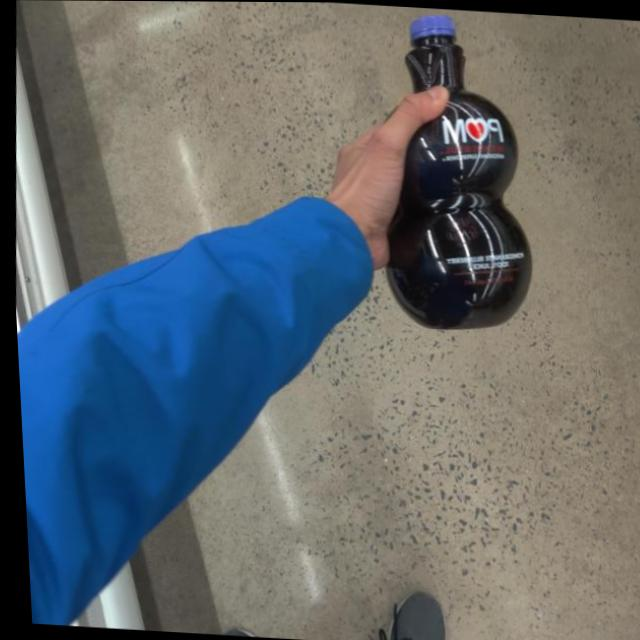Juice: (367, 5, 554, 355)
